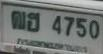letters: (10, 10, 26, 30), (27, 12, 40, 32), (76, 17, 87, 38), (89, 20, 100, 39), (64, 16, 74, 36), (52, 15, 61, 35)
province: (16, 38, 88, 53)
